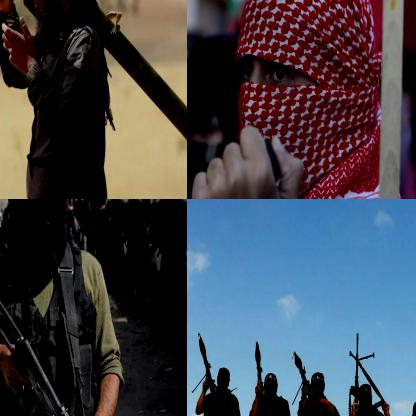rifle: (0, 0, 186, 169), (0, 275, 128, 415), (190, 334, 216, 393), (346, 334, 365, 404), (290, 353, 312, 396), (251, 342, 268, 393)
